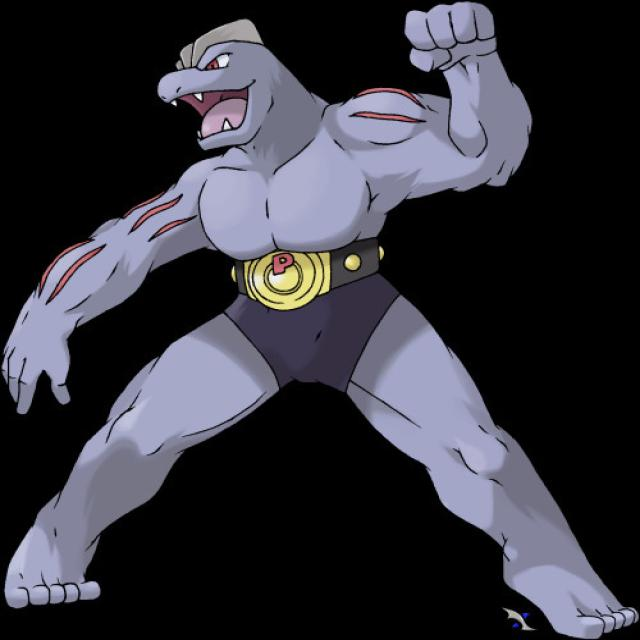Machoke: (112, 7, 522, 554)
